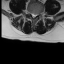CCS_stenosis: (32, 11, 34, 20)
LFS_stenosis: (37, 11, 39, 16)
LLS_stenosis: (34, 12, 36, 18)
RFS_stenosis: (28, 10, 31, 15)
RLS_normal: (31, 11, 32, 18)
